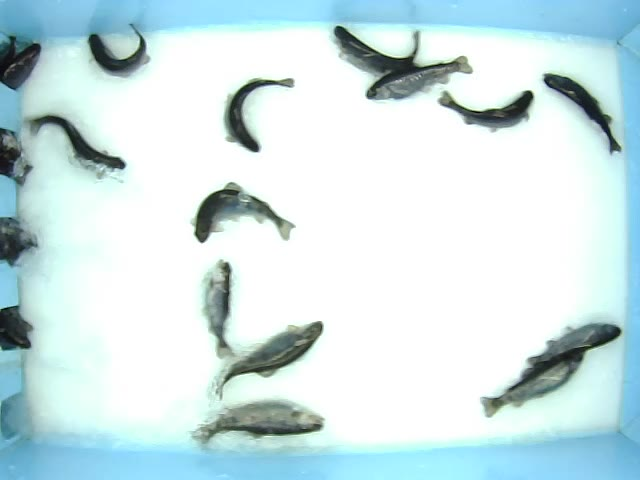fish: (209, 320, 325, 402), (478, 346, 585, 421), (537, 69, 624, 157), (187, 399, 326, 450), (517, 321, 622, 385), (189, 182, 298, 243), (25, 112, 126, 171), (223, 76, 296, 155), (362, 52, 475, 103), (435, 86, 535, 134), (333, 24, 423, 73), (200, 259, 242, 361), (85, 21, 152, 78)
